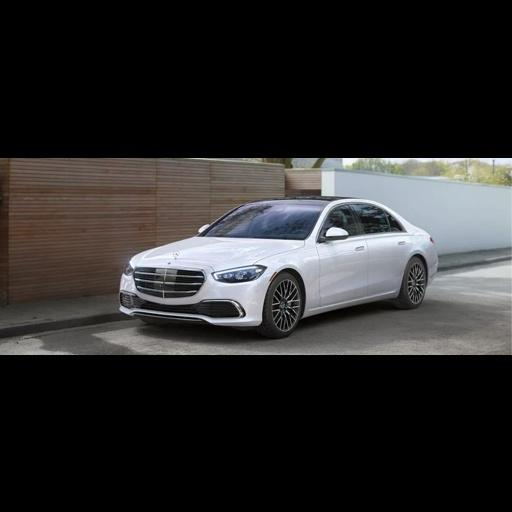sedan: (121, 197, 437, 336)
